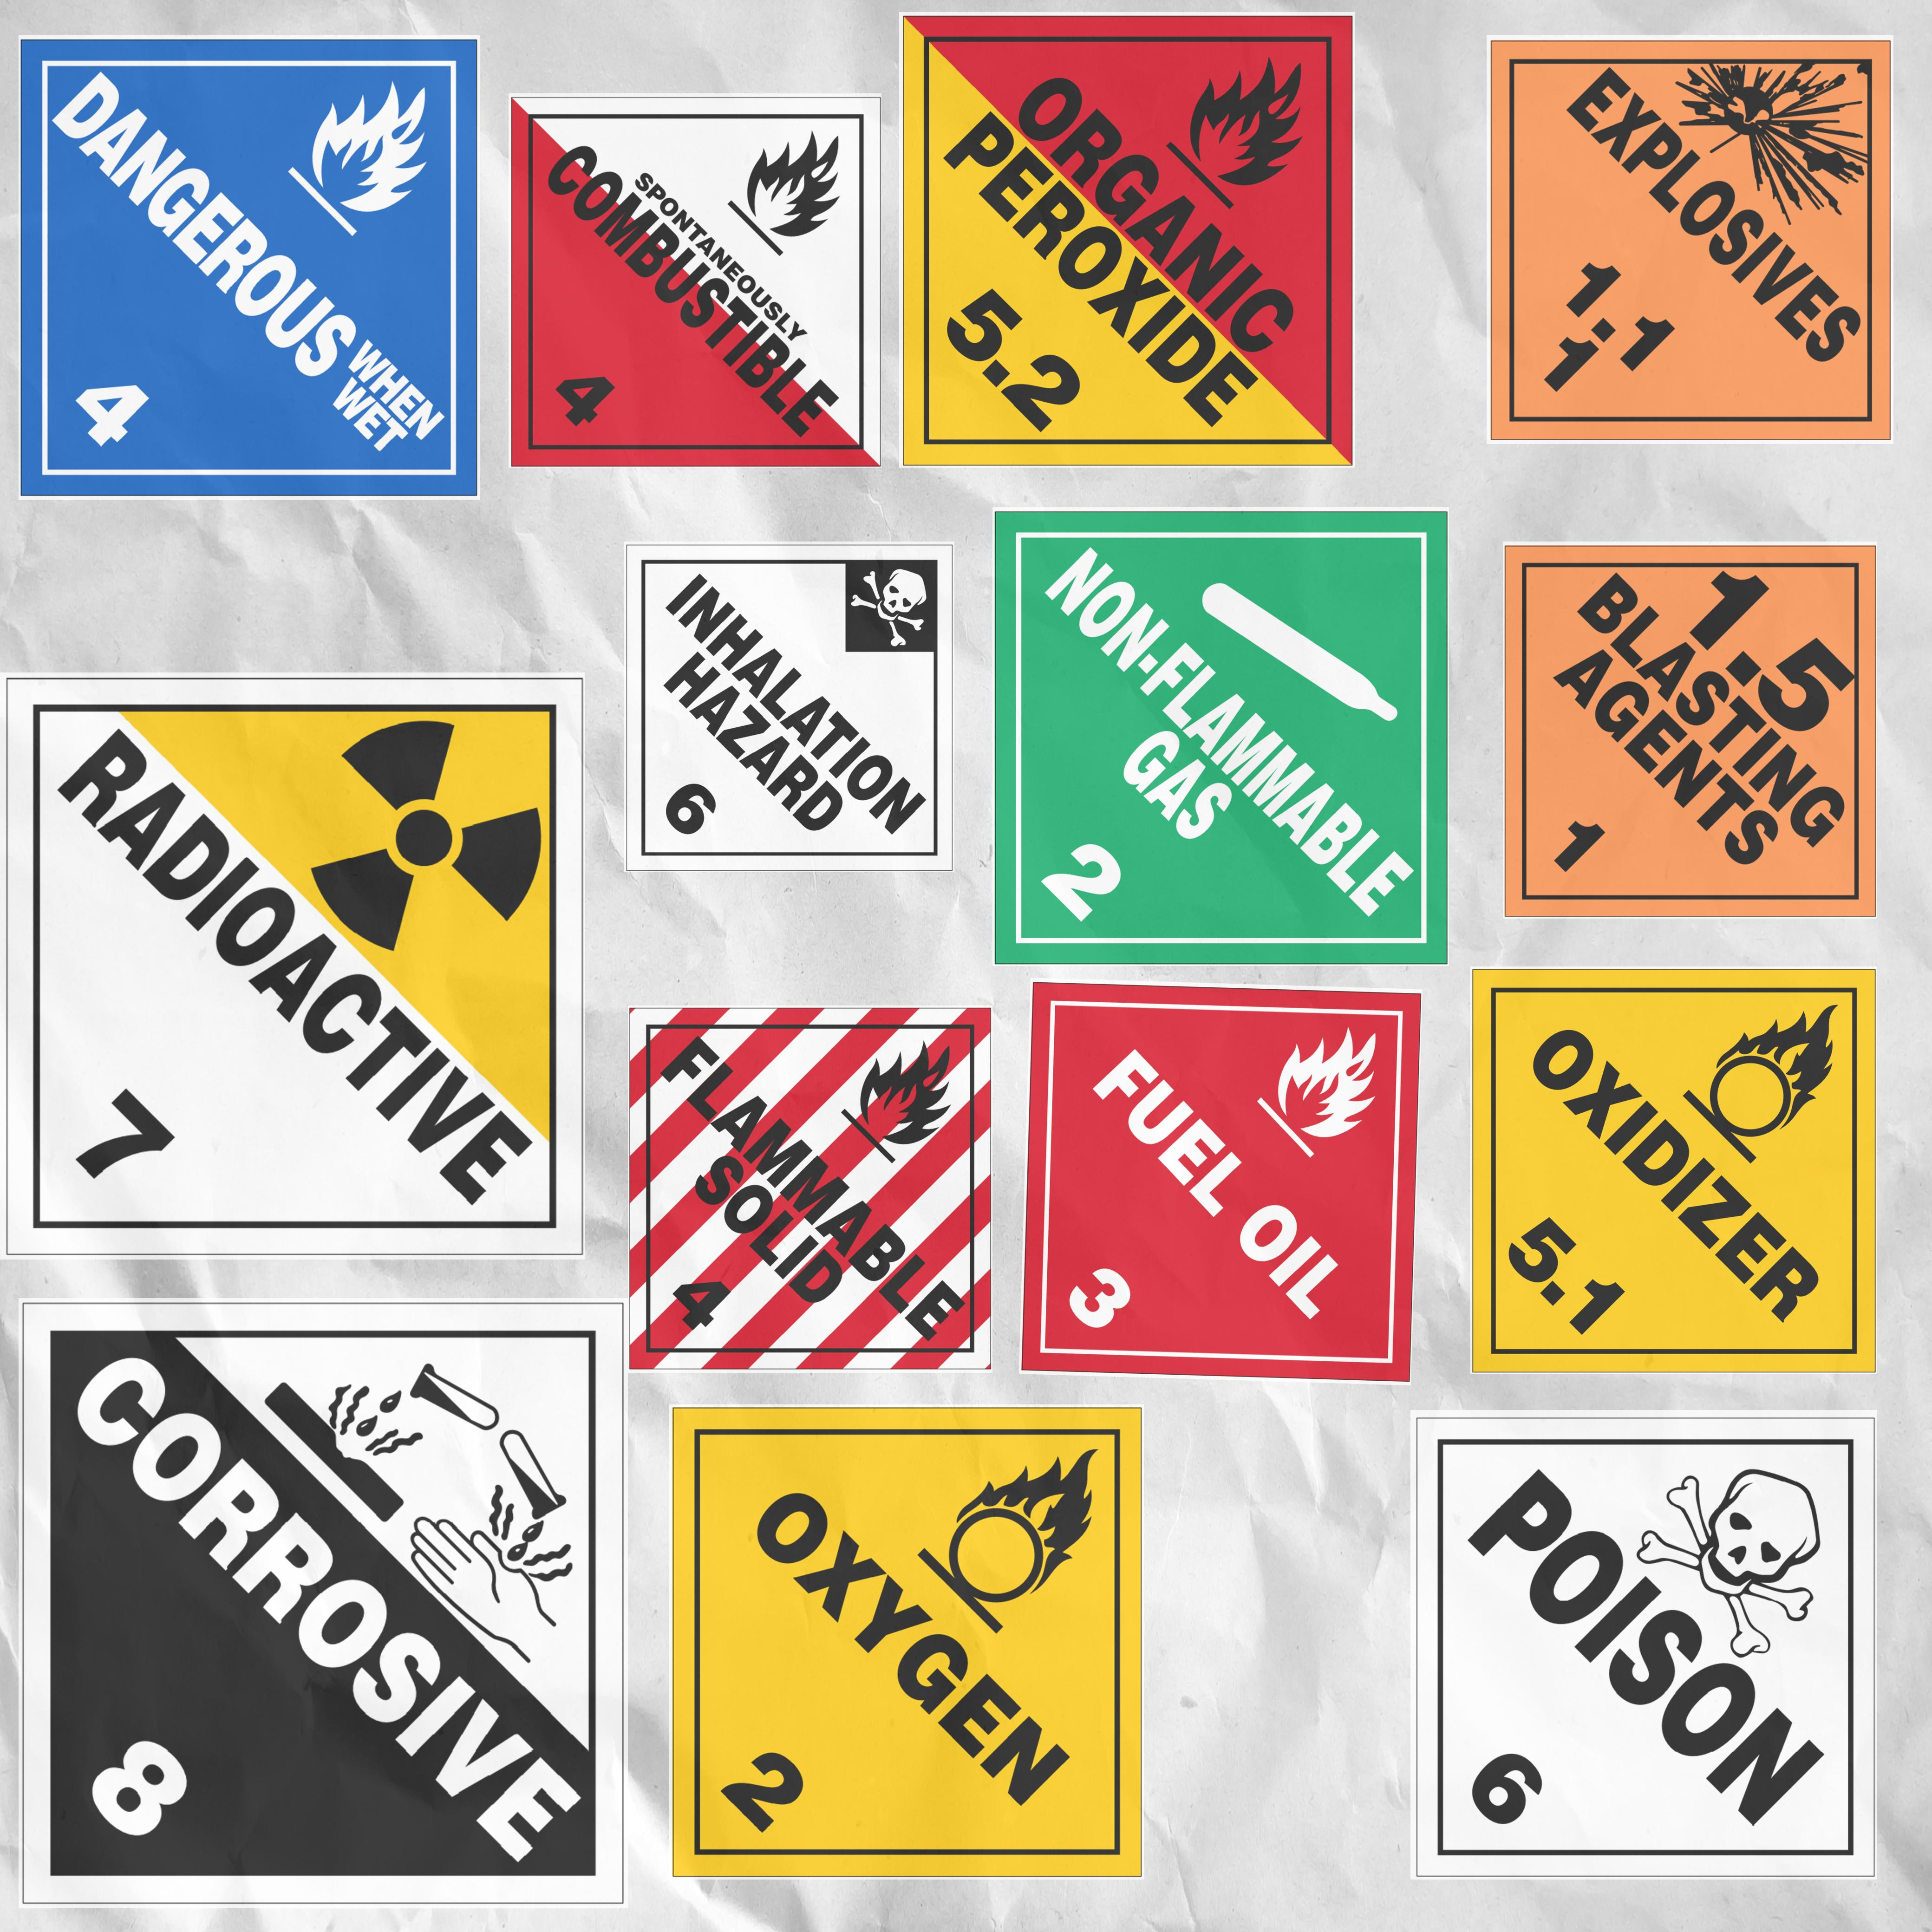corrosive: (16, 1297, 625, 1897)
dangerous-when-wet: (16, 35, 476, 494)
explosive: (1490, 34, 1895, 458), (1500, 534, 1881, 931)
flammable: (1028, 977, 1412, 1392)
flammable-solid: (616, 993, 1005, 1371)
non-flammable-gas: (991, 511, 1447, 964)
organic-peroxide: (892, 12, 1357, 472)
oxidizer: (672, 1408, 1146, 1884), (1454, 961, 1881, 1385)
poison: (1421, 1417, 1867, 1872), (619, 538, 961, 872)
radioactive: (5, 671, 600, 1274)
spontaneously-combustible: (510, 97, 885, 465)
